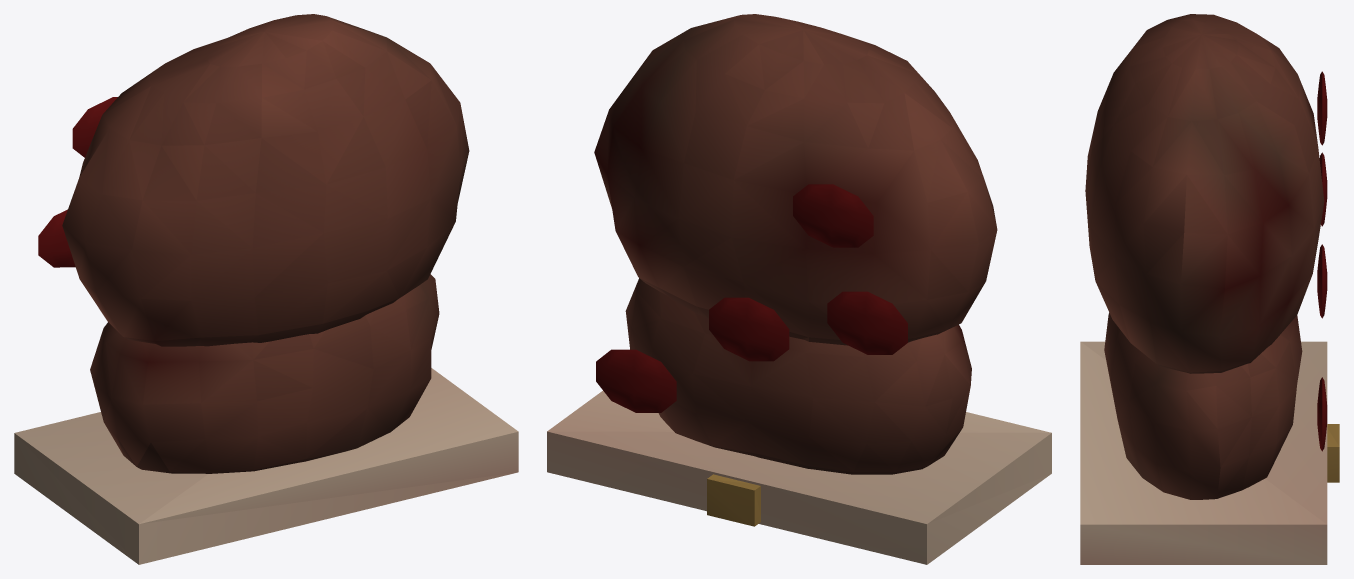
Rendered from ScavengerTorso.glb.
The picture shows the model from 3 angles, left to right: view 1: azimuth 30°, elevation 25°; view 2: azimuth 150°, elevation 25°; view 3: azimuth 270°, elevation 25°; orthographic projection.
Parts seen in each view (by area): view 1: ScavengerTorso_shirtScavenger, ScavengerTorso_leather, ScavengerTorso_blood; view 2: ScavengerTorso_shirtScavenger, ScavengerTorso_leather, ScavengerTorso_blood, ScavengerTorso_brass; view 3: ScavengerTorso_shirtScavenger, ScavengerTorso_leather, ScavengerTorso_blood, ScavengerTorso_brass.
Part boxes in pixels (box(x1,y1,x2,y2)): ScavengerTorso_shirtScavenger: box(62, 14, 469, 473); ScavengerTorso_leather: box(14, 368, 518, 564); ScavengerTorso_blood: box(38, 97, 117, 267); ScavengerTorso_shirtScavenger: box(594, 14, 997, 474); ScavengerTorso_leather: box(547, 391, 1051, 564); ScavengerTorso_blood: box(596, 184, 907, 412); ScavengerTorso_brass: box(707, 474, 760, 526); ScavengerTorso_shirtScavenger: box(1085, 14, 1324, 499); ScavengerTorso_leather: box(1080, 341, 1327, 564); ScavengerTorso_blood: box(1317, 71, 1327, 451); ScavengerTorso_brass: box(1327, 424, 1339, 482).
Size of the model in its own units: 1.79 by 2 by 1.05.
